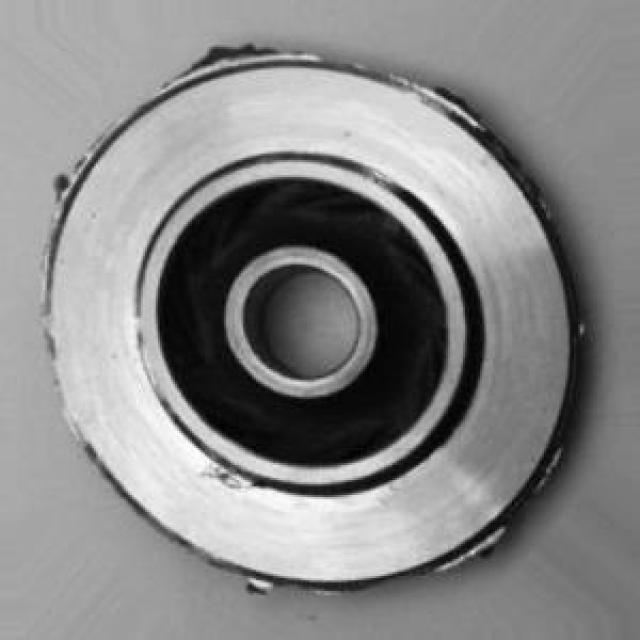Defect: (422, 70, 486, 128)
